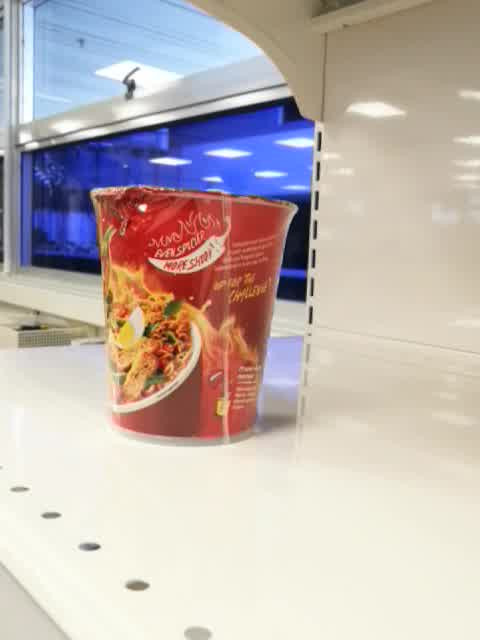maggi: (89, 185, 299, 446)
